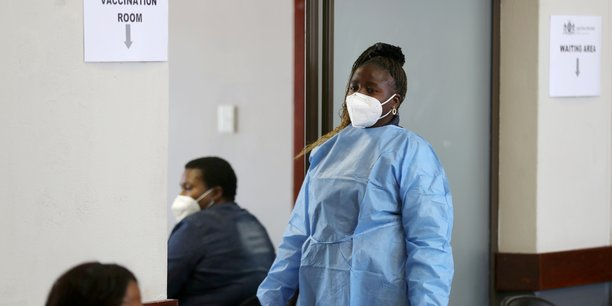with_mask: (348, 74, 386, 130), (177, 179, 204, 215)
